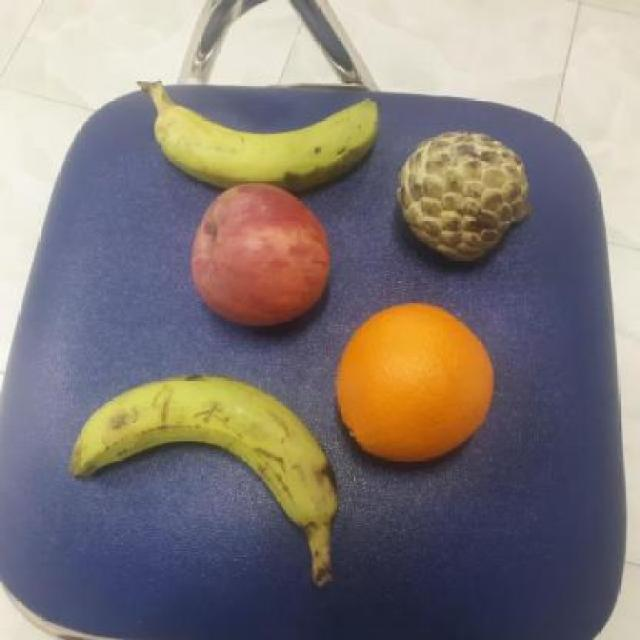apple: (186, 181, 334, 327)
banana: (68, 371, 343, 532), (148, 88, 392, 192)
oren: (332, 302, 498, 463)
sugar apple: (390, 128, 530, 264)
